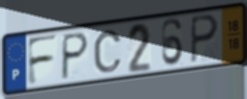2: (126, 21, 154, 75)
6: (160, 17, 184, 69)
C: (92, 29, 124, 75)
F: (26, 33, 60, 88)
P: (59, 31, 91, 83), (189, 13, 220, 65)
